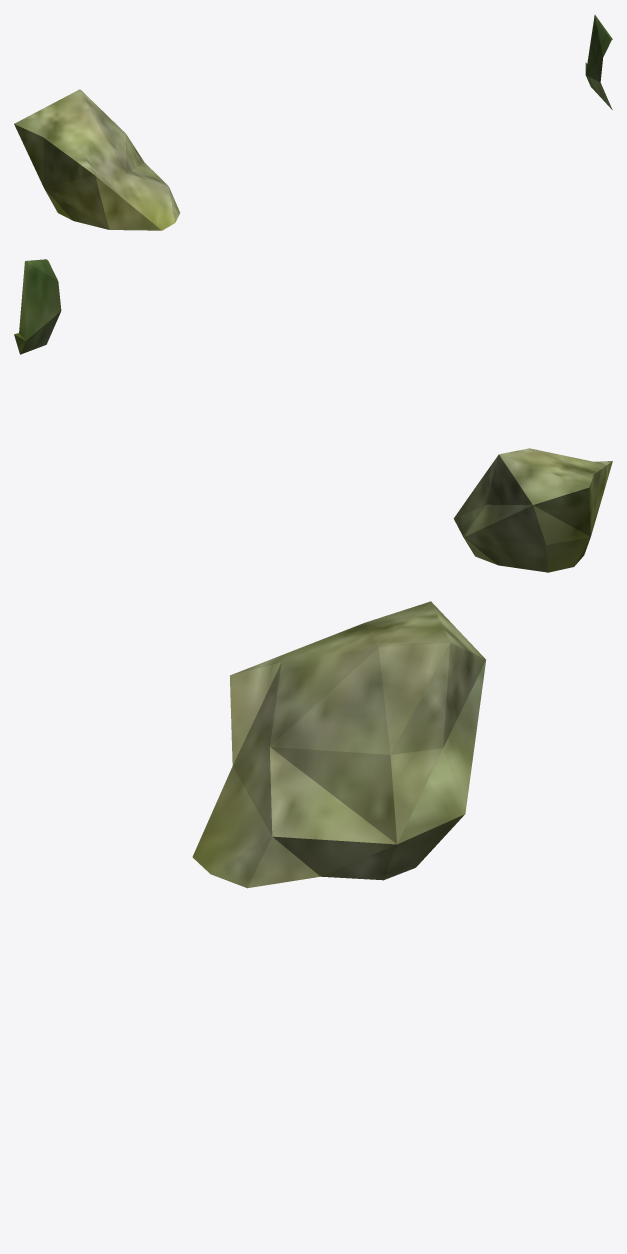
3 renders of one model, top to bottom at view 1: azimuth 30°, elevation 25°; view 2: azimuth 150°, elevation 25°; view 3: azimuth 270°, elevation 25°, orthographic. The views are drawn at different scales.
Size of the model in its own units: 4.82 by 0.925 by 1.37.
1 material, 1 textured.
